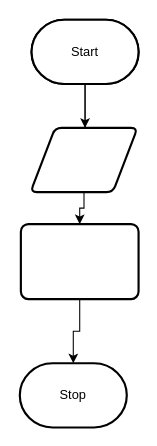
The diagram is 157 pixels wide and 446 high, and some of its shapes have lost their labels. Each missing label, with the centre of its shape:
move LED sprite around the edge of the led screen clockwise: the point at 79,261
on button A presed: the point at 83,159
